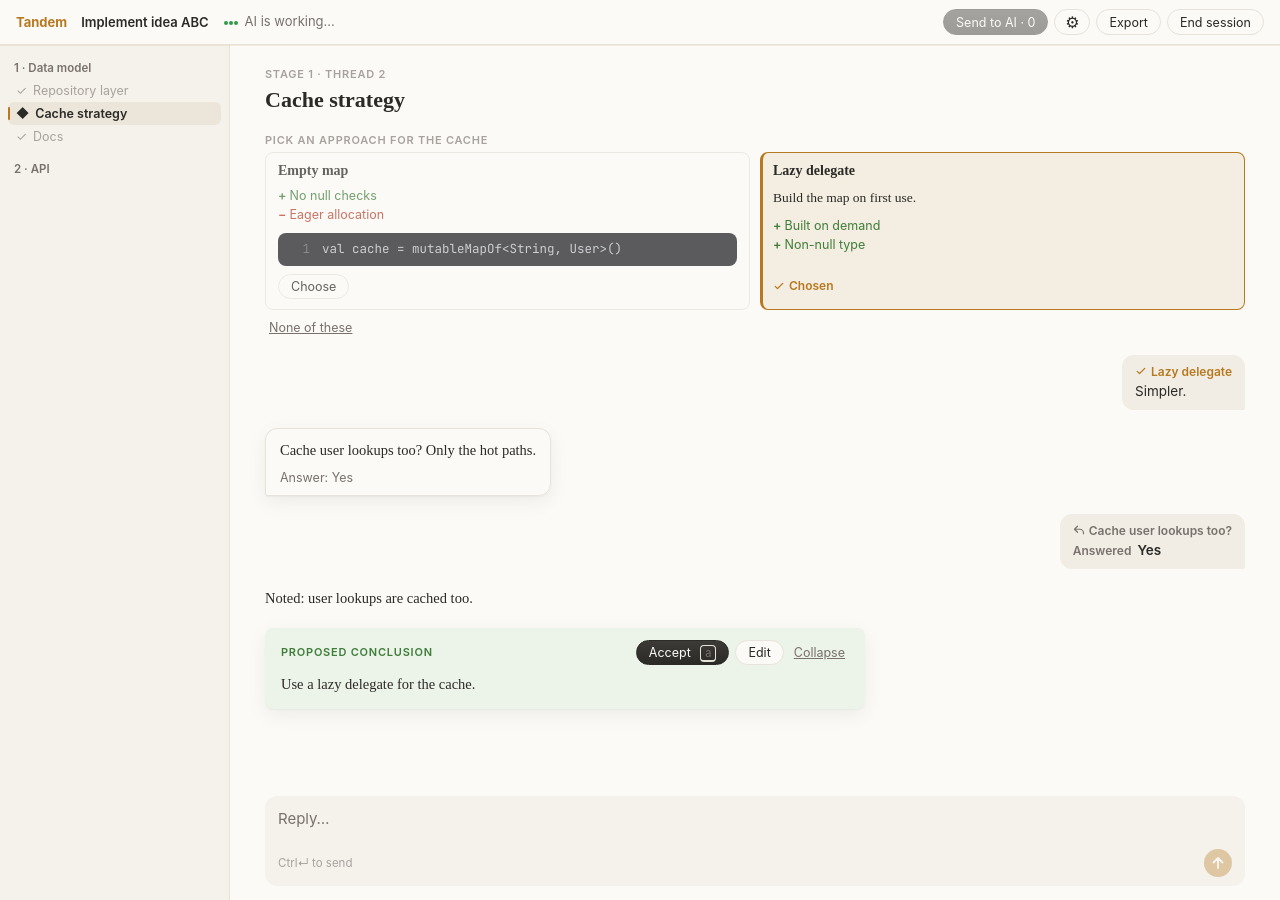
Test: SessionPage › advances to the stage once the last open thread is accepted (F12b-4)
The image size is (1280, 900).
Expected: the heading "Cache strategy" is shown, [265,87,405,112]
Click the button "Accept a".
click(683, 653)  # box [636,640,729,665]
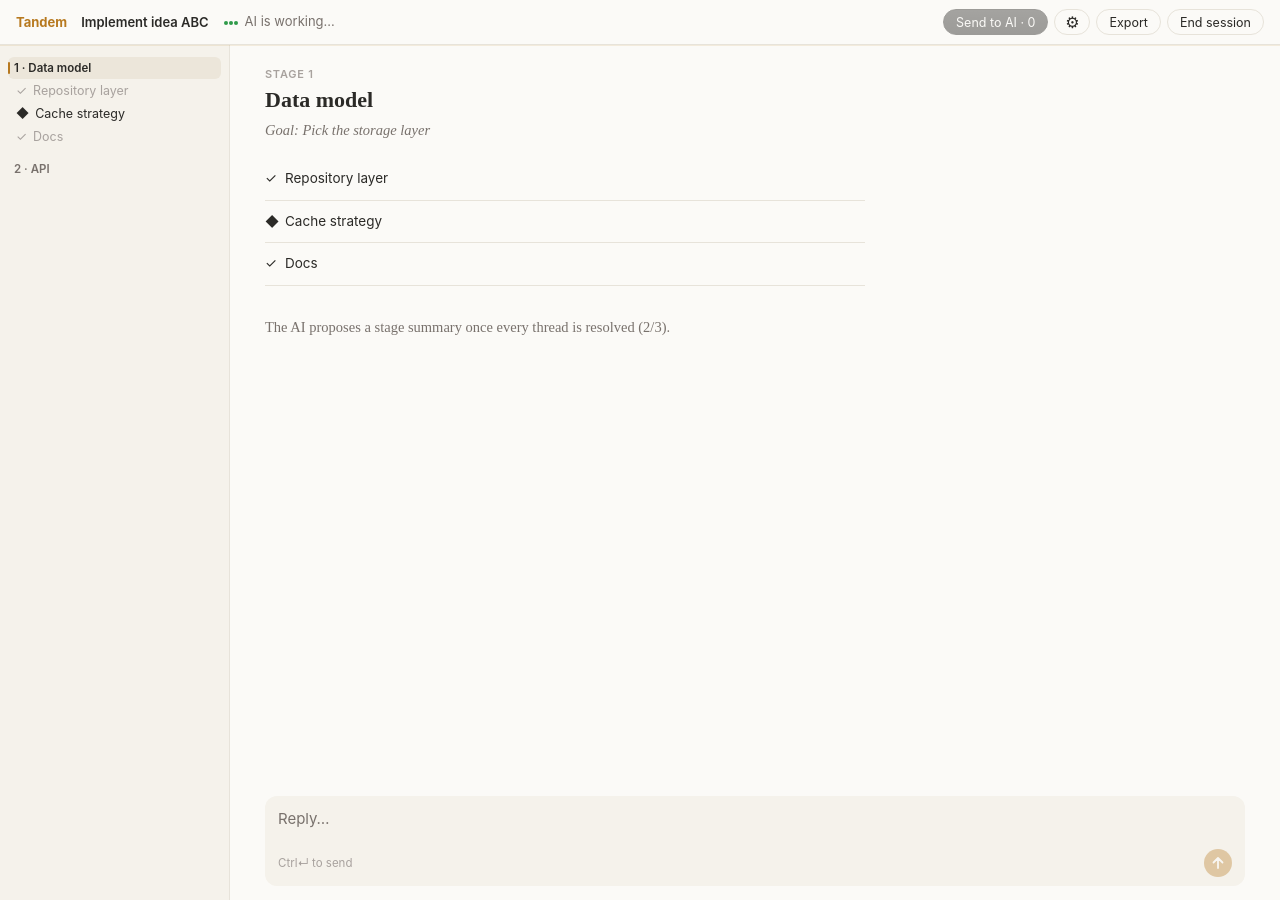
Expected: the heading "Data model" is shown, [265,87,373,112]
